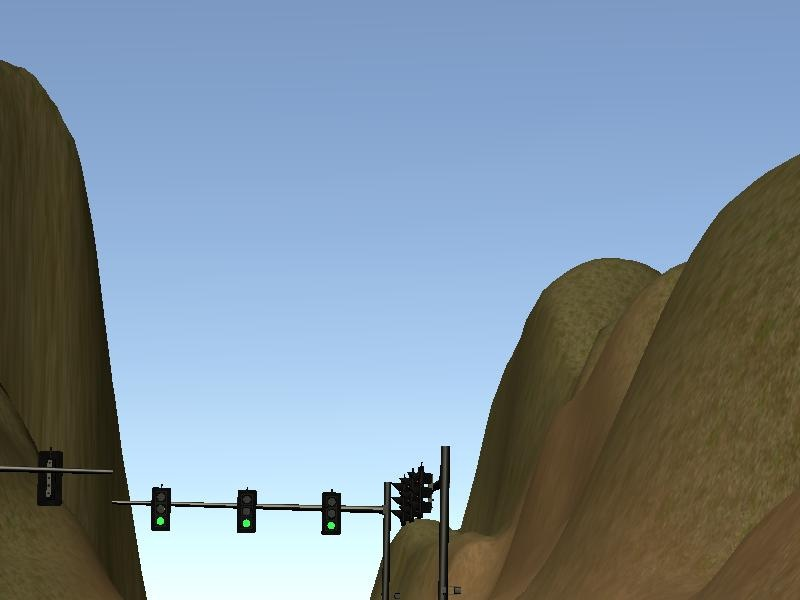green: (233, 487, 260, 538), (318, 490, 345, 540), (148, 482, 172, 532)
